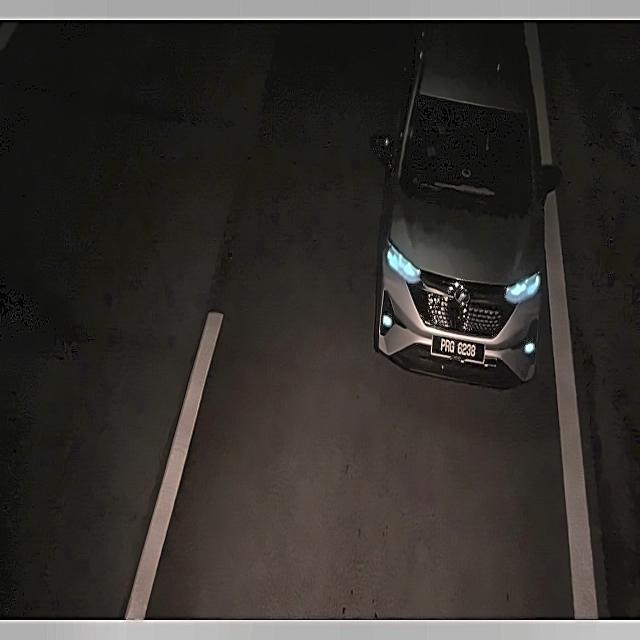car: (430, 329, 490, 371)
